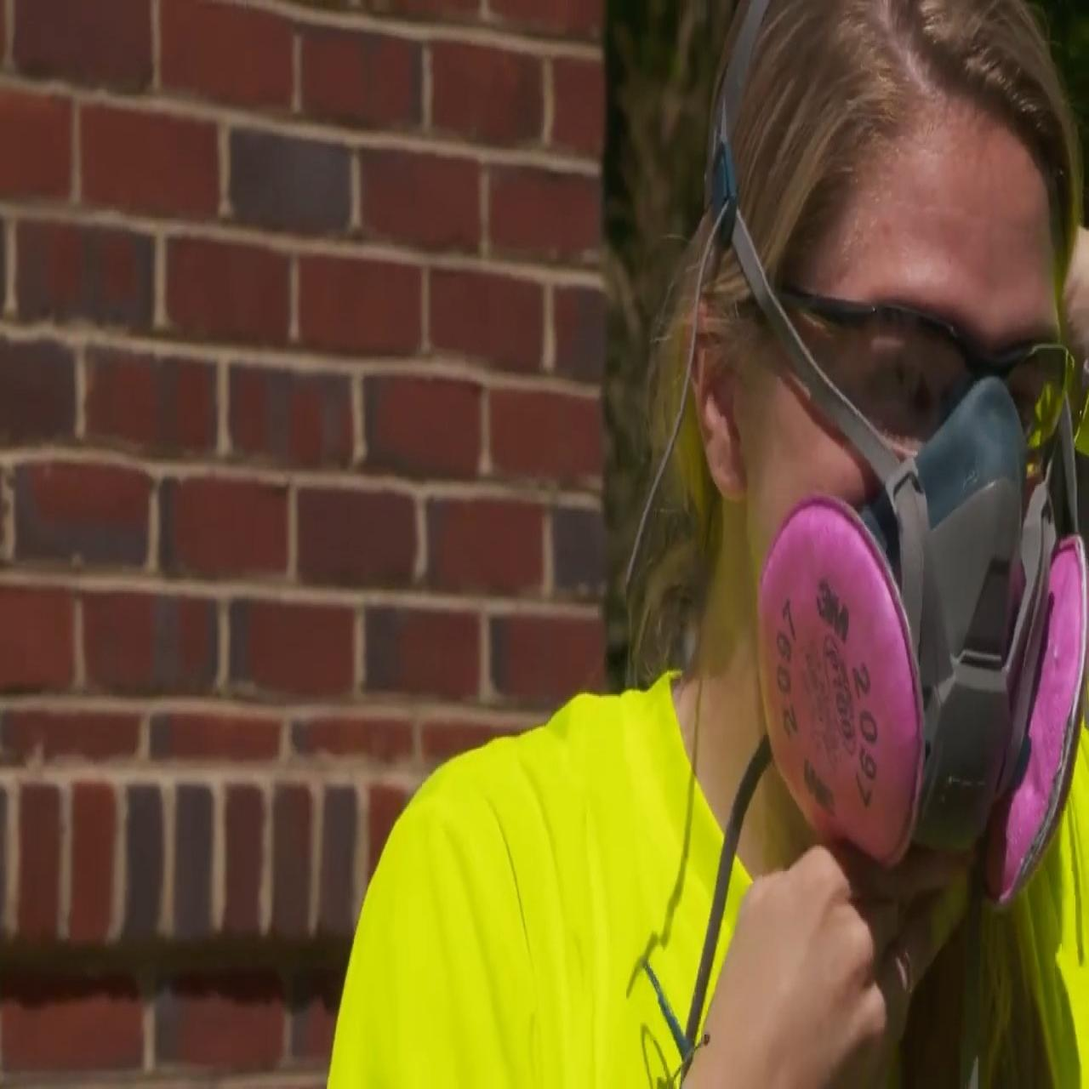NO_Safety_Vest: (480, 669, 1089, 1089)
Person: (327, 0, 1089, 1089)
